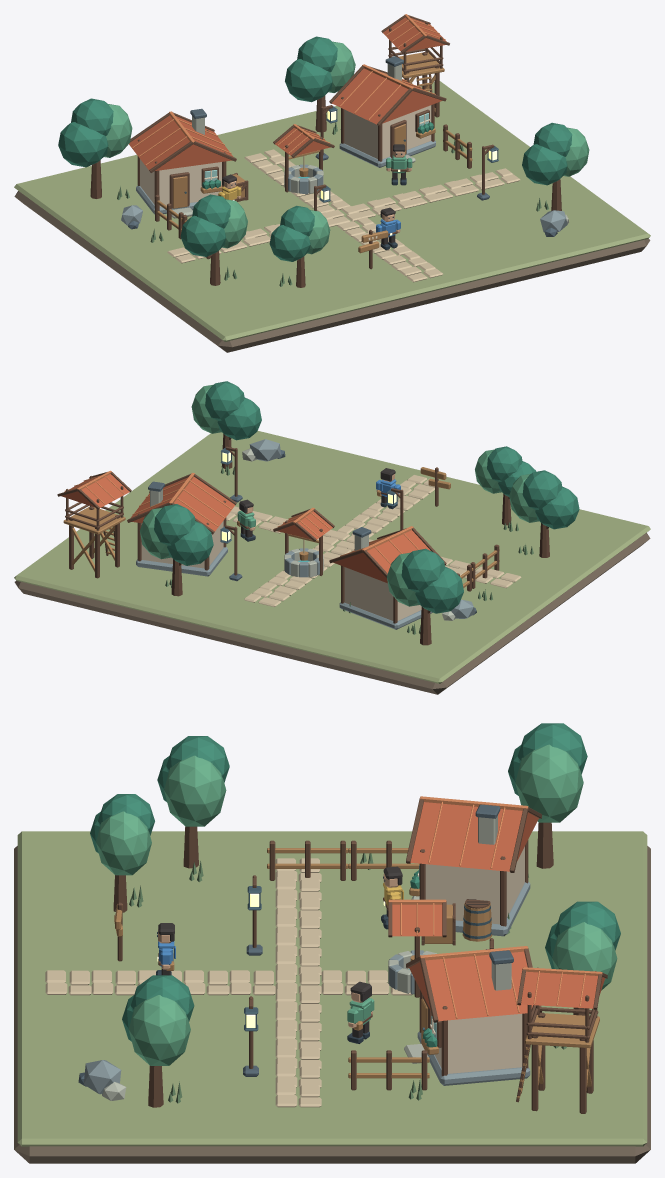
The model's file is village-courtyard.glb.
3 renders of one model, top to bottom at view 1: azimuth 30°, elevation 25°; view 2: azimuth 150°, elevation 25°; view 3: azimuth 270°, elevation 25°, orthographic. The views are drawn at different scales.
Parts seen in each view (by area): view 1: terrain-top, terrain-stratum, cottage-roof.001, cottage-roof.002, plaster-walls.002, canopy.003, plaster-walls.001, canopy.015, canopy.012, canopy.006, tower-canopy.001, canopy.009 (+13 smaller); view 2: terrain-top, terrain-stratum, cottage-roof.002, plaster-walls.001, cottage-roof.001, canopy.003, canopy.005, canopy.015, canopy.017, canopy.006, canopy.012, canopy.008 (+14 smaller); view 3: terrain-top, terrain-stratum, cottage-roof.001, cottage-roof.002, plaster-walls.002, canopy.004, plaster-walls.001, canopy.007, canopy.013, canopy.010, canopy.016, tower-canopy.001 (+12 smaller).
Part boxes in pixels (x1,y1,x2,y2): terrain-top: (14, 81, 650, 341); terrain-stratum: (14, 191, 650, 352); cottage-roof.001: (129, 115, 233, 170); cottage-roof.002: (331, 68, 442, 124); plaster-walls.002: (344, 105, 431, 159); canopy.003: (58, 122, 108, 167); plaster-walls.001: (140, 159, 221, 206); canopy.015: (285, 59, 332, 102); canopy.012: (522, 144, 567, 185); canopy.006: (180, 215, 225, 256); tower-canopy.001: (383, 17, 446, 51); canopy.009: (269, 225, 310, 261); terrain-top: (14, 431, 650, 683); terrain-stratum: (14, 532, 650, 694); cottage-roof.002: (130, 477, 235, 531); plaster-walls.001: (344, 567, 421, 620); cottage-roof.001: (333, 530, 430, 583); canopy.003: (415, 566, 463, 613); canopy.005: (401, 548, 445, 592); canopy.015: (167, 521, 213, 565); canopy.017: (154, 504, 195, 545); canopy.006: (535, 486, 579, 529); canopy.012: (217, 397, 261, 440); canopy.008: (522, 470, 562, 509); terrain-top: (17, 831, 647, 1146); terrain-stratum: (14, 846, 650, 1163); cottage-roof.001: (410, 802, 538, 871); cottage-roof.002: (409, 951, 532, 1021); plaster-walls.002: (434, 1013, 522, 1073); canopy.004: (515, 744, 583, 822); plaster-walls.001: (425, 846, 524, 924); canopy.007: (164, 755, 226, 826); canopy.013: (128, 995, 190, 1065); canopy.010: (96, 811, 151, 875); canopy.016: (552, 922, 617, 990); tower-canopy.001: (521, 971, 605, 1008).
Bounding box in the file's own units: 21 × 5.27 × 18.
